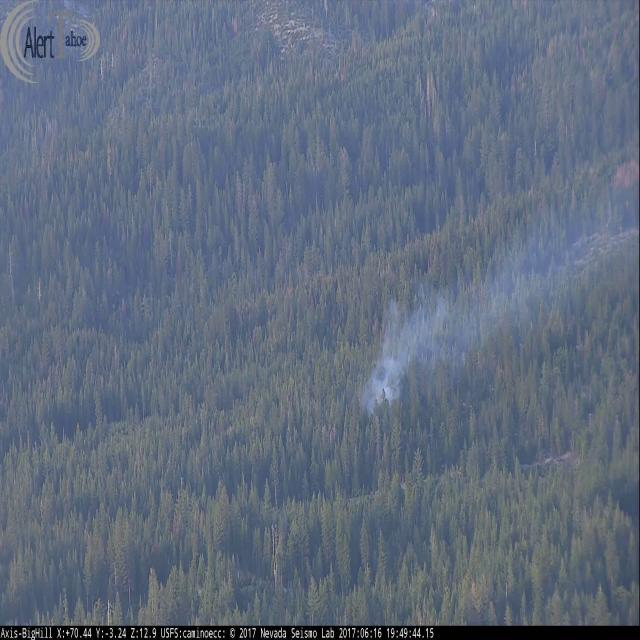smoke: (365, 174, 640, 417)
